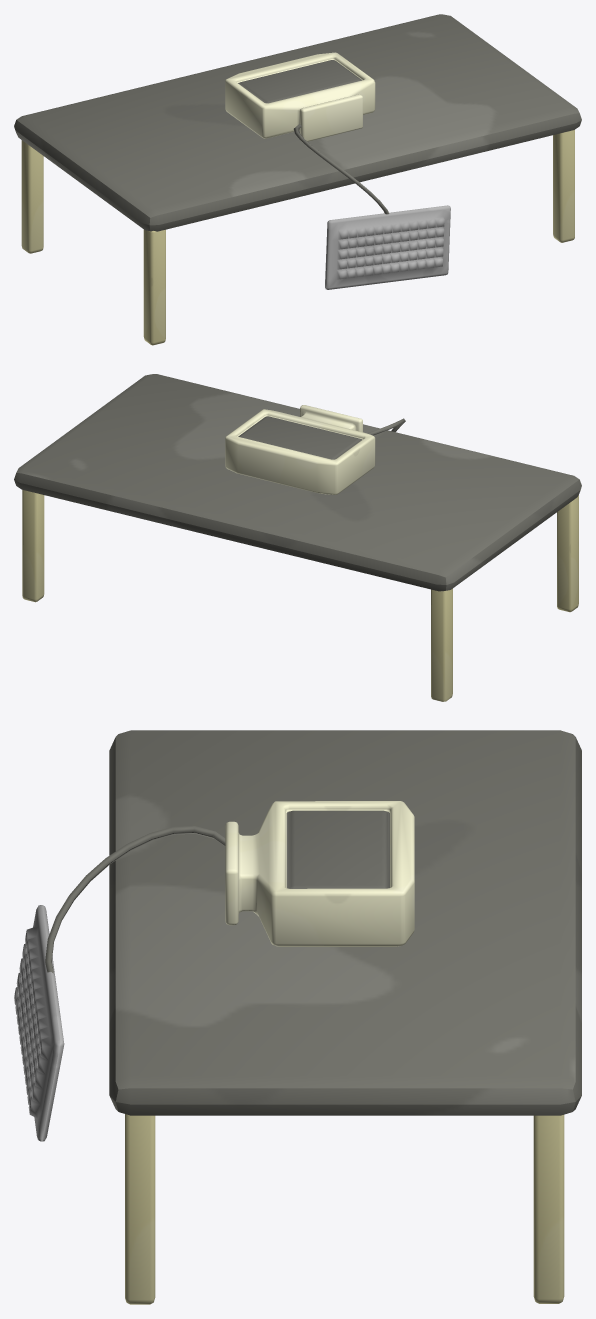
Rendered from Props_TableComp_01.fbx.
3 views of the same model, one above another, from view 1: azimuth 30°, elevation 25°; view 2: azimuth 150°, elevation 25°; view 3: azimuth 270°, elevation 25° (orthographic). The views are drawn at different scales.
Parts seen in each view (by area): view 1: Props_TableComp_01; view 2: Props_TableComp_01; view 3: Props_TableComp_01.
Boxes of the visible parts, <box> form: Props_TableComp_01: <box>14,14,581,345</box>; Props_TableComp_01: <box>14,374,581,701</box>; Props_TableComp_01: <box>14,730,581,1304</box>.
Size of the model in its own units: 200 by 73.16 by 132.
